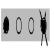correct: (3, 15, 10, 34)
not correct: (39, 7, 48, 48)
